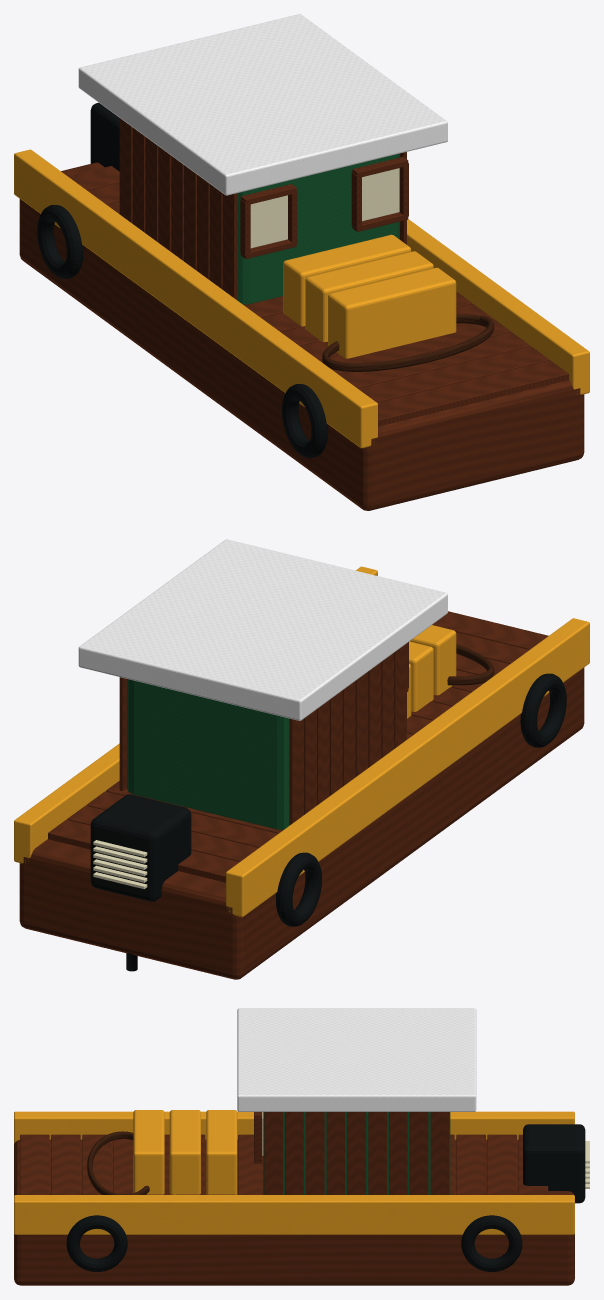
File: klotok.glb
3 renders of one model, top to bottom at view 1: azimuth 30°, elevation 25°; view 2: azimuth 150°, elevation 25°; view 3: azimuth 270°, elevation 25°, orthographic. The views are drawn at different scales.
Parts seen in each view (by area): view 1: klotok; view 2: klotok; view 3: klotok.
Boxes of the visible parts, left/top/right/bottom form: klotok: left=14, top=14, right=589, bottom=510; klotok: left=14, top=539, right=589, bottom=979; klotok: left=14, top=1008, right=589, bottom=1285.
Size of the model in its own units: 2.27 by 2.17 by 5.55.
7 materials, 7 textured.
